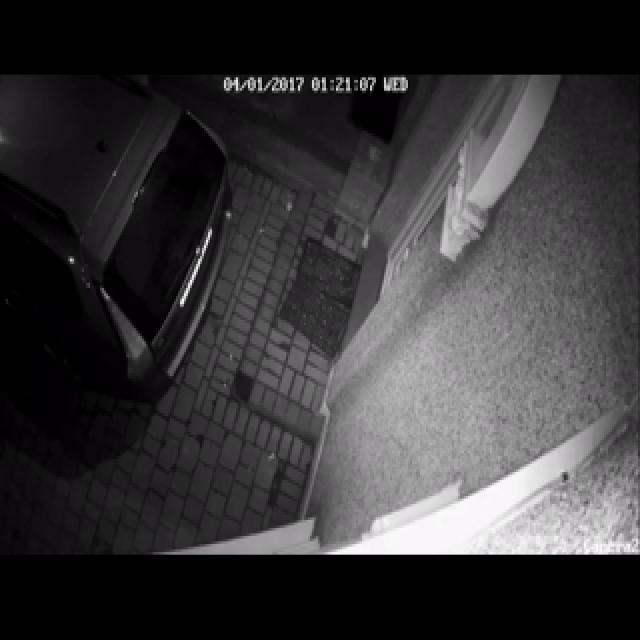burglary: (44, 76, 558, 502)
